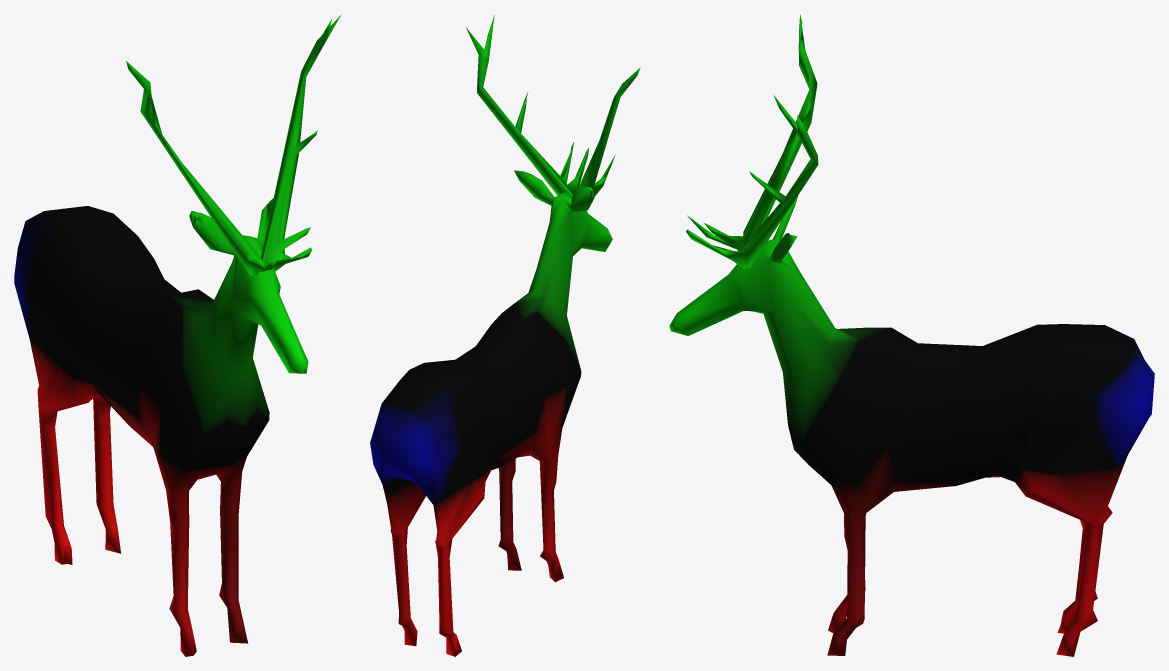
File: deer_red_stag_lod2_bind.glb
3 views of the same model, side by side, from view 1: azimuth 30°, elevation 25°; view 2: azimuth 150°, elevation 25°; view 3: azimuth 270°, elevation 25° (orthographic). The views are drawn at different scales.
Visible parts, largest first — view 1: Deer_Stag_Far.001; view 2: Deer_Stag_Far.001; view 3: Deer_Stag_Far.001.
Boxes of the visible parts, x1,y1,x2,y2 form: Deer_Stag_Far.001: [14, 14, 341, 656]; Deer_Stag_Far.001: [370, 15, 640, 656]; Deer_Stag_Far.001: [669, 14, 1154, 656].
Size of the model in its own units: 0.8424 by 2.38 by 1.79.
